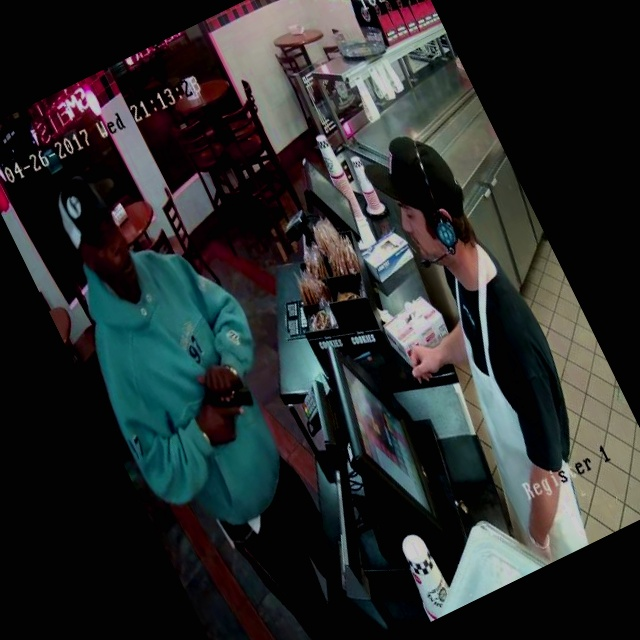gun: (182, 349, 266, 434)
